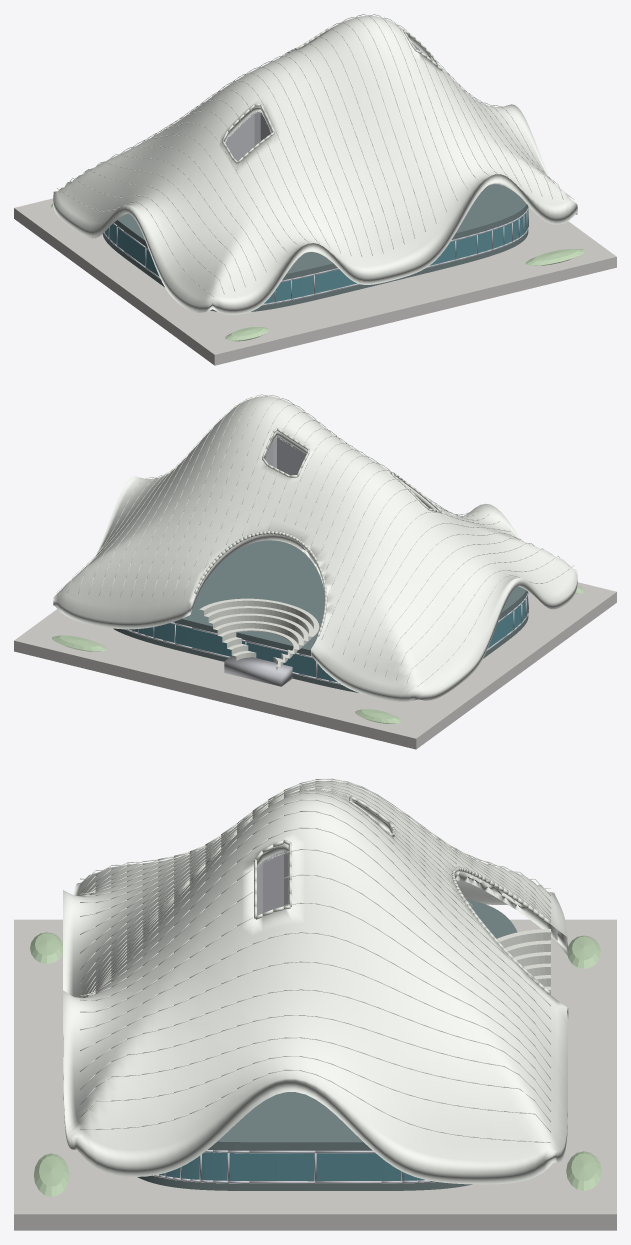
File: dot-P10.glb
3 views of the same model, one above another, from view 1: azimuth 30°, elevation 25°; view 2: azimuth 150°, elevation 25°; view 3: azimuth 270°, elevation 25° (orthographic). The views are drawn at different scales.
Parts seen in each view (by area): view 1: pave, low_plinth_glass; view 2: pave, low_plinth_glass; view 3: pave, low_plinth_glass.
Part boxes in pixels (x1,y1,x2,y2): pave: (14, 14, 616, 365); low_plinth_glass: (105, 210, 528, 303); pave: (14, 394, 616, 749); low_plinth_glass: (129, 596, 527, 682); pave: (14, 778, 616, 1230); low_plinth_glass: (159, 1152, 424, 1181).
Size of the model in its own units: 5.98 by 3.05 by 5.17.
2 materials, 2 textured.
